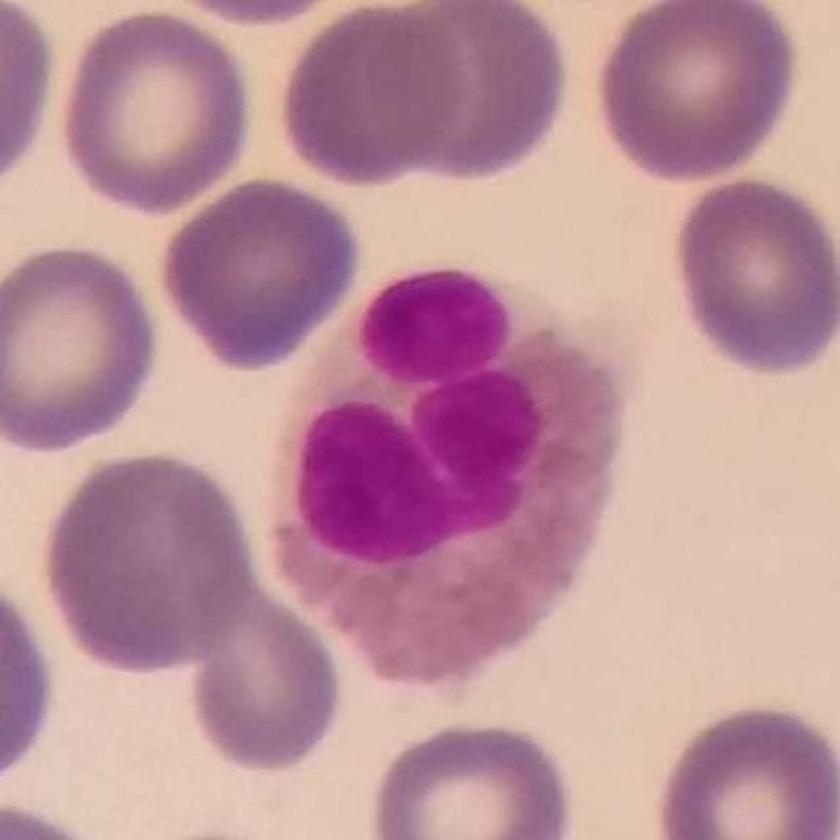eosinophil: (263, 261, 635, 691)
